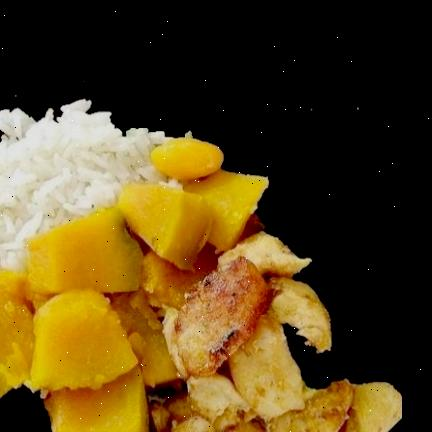cassava: (0, 137, 263, 432)
chicken: (141, 232, 401, 432)
rice: (0, 99, 179, 270)
